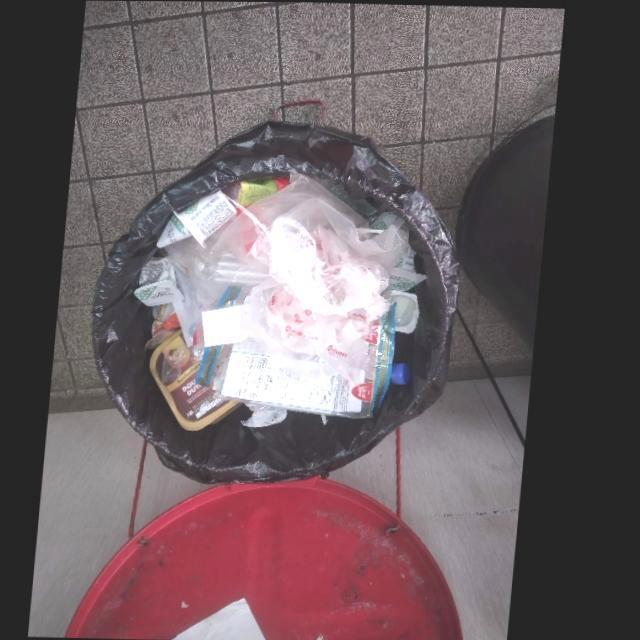plastic_container: (155, 328, 249, 430), (160, 189, 239, 247), (138, 256, 189, 305)
